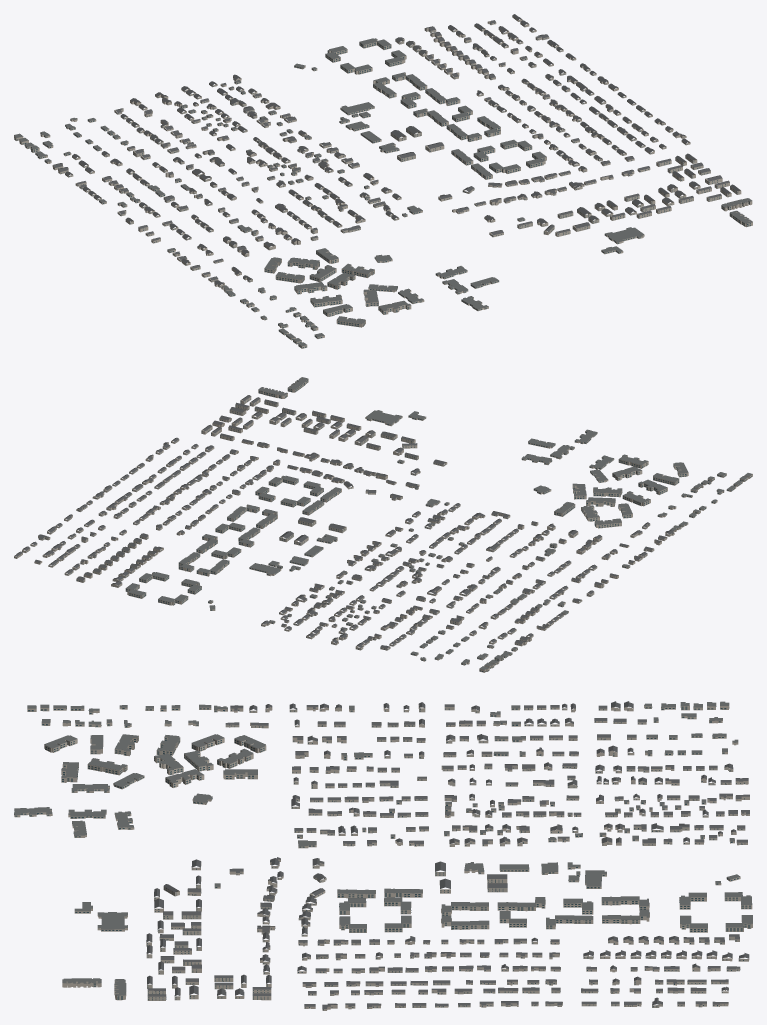
3 renders of one model, top to bottom at view 1: azimuth 30°, elevation 25°; view 2: azimuth 150°, elevation 25°; view 3: azimuth 270°, elevation 25°, orthographic. The views are drawn at different scales.
Parts seen in each view (by area): view 1: Buildings (-6, 0) Masonry brick, Buildings (-6, 0) Roof shingles, Buildings (-6, 0) Roof membrane, Buildings (-6, 0) Architectural tinted glass, Buildings (-6, 0) House siding; view 2: Buildings (-6, 0) Masonry brick, Buildings (-6, 0) Roof shingles, Buildings (-6, 0) Roof membrane, Buildings (-6, 0) Architectural tinted glass, Buildings (-6, 0) House siding; view 3: Buildings (-6, 0) Masonry brick, Buildings (-6, 0) Roof shingles, Buildings (-6, 0) Roof membrane, Buildings (-6, 0) Architectural tinted glass, Buildings (-6, 0) House siding, Buildings (-6, 0) Metal coping, Buildings (-6, 0) Window trim.
Boxes of the visible parts, box(x1,y1,x2,y2) form: Buildings (-6, 0) Masonry brick: box(14, 15, 752, 348); Buildings (-6, 0) Roof shingles: box(53, 14, 740, 285); Buildings (-6, 0) Roof membrane: box(14, 38, 752, 346); Buildings (-6, 0) Architectural tinted glass: box(14, 16, 750, 347); Buildings (-6, 0) House siding: box(65, 27, 721, 282); Buildings (-6, 0) Masonry brick: box(14, 378, 752, 672); Buildings (-6, 0) Roof shingles: box(14, 395, 673, 648); Buildings (-6, 0) Roof membrane: box(126, 377, 752, 669); Buildings (-6, 0) Architectural tinted glass: box(14, 380, 751, 671); Buildings (-6, 0) House siding: box(38, 401, 654, 650); Buildings (-6, 0) Masonry brick: box(14, 703, 752, 1010); Buildings (-6, 0) Roof shingles: box(146, 701, 749, 1008); Buildings (-6, 0) Roof membrane: box(14, 701, 752, 995); Buildings (-6, 0) Architectural tinted glass: box(14, 705, 752, 1010); Buildings (-6, 0) House siding: box(147, 707, 749, 1007); Buildings (-6, 0) Metal coping: box(15, 701, 752, 995); Buildings (-6, 0) Window trim: box(147, 708, 745, 1007).
Bounding box in the file's own units: 1006 × 13.15 × 1035.
